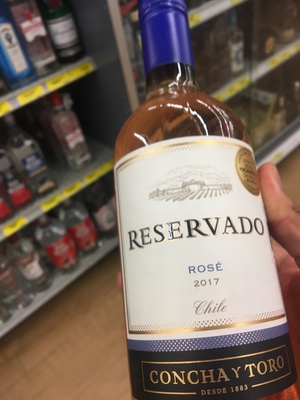reservado rose: (110, 20, 278, 400)
